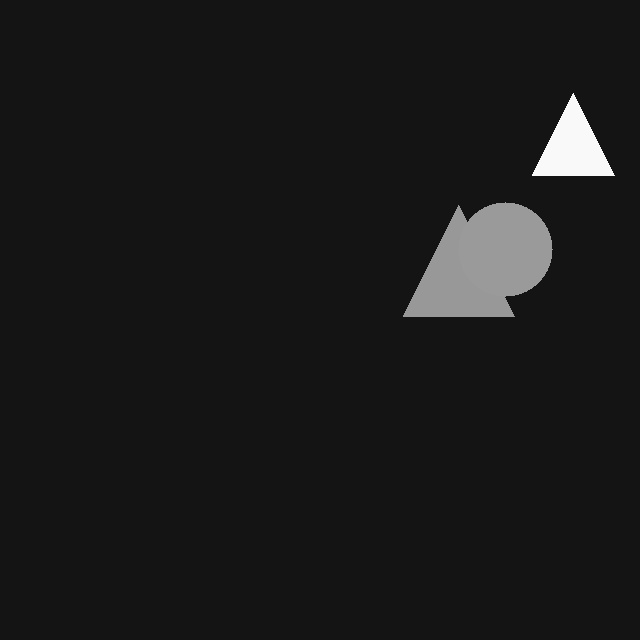circle: (458, 202, 552, 296)
triangle: (403, 205, 514, 316), (532, 93, 614, 175)
